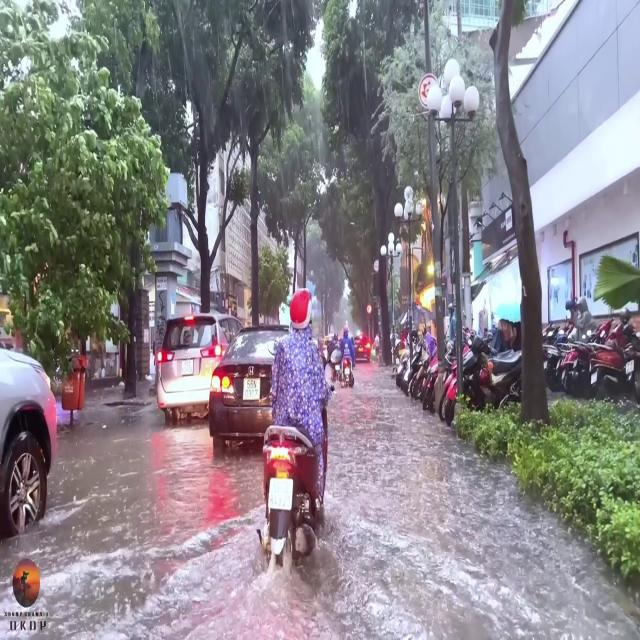bien_trang: (268, 479, 294, 513), (243, 379, 262, 403)
